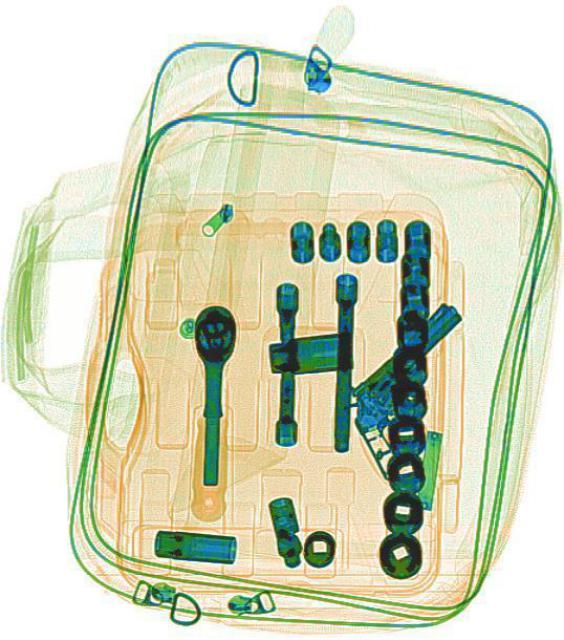Gun: (325, 298, 506, 480)
